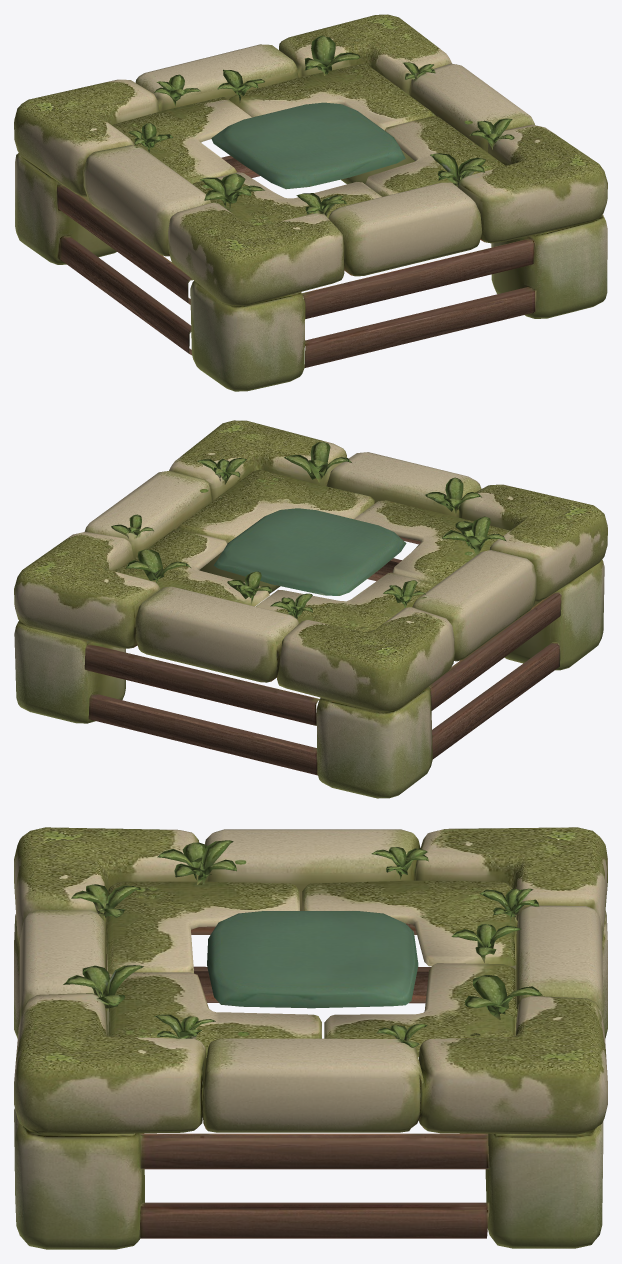
Rendered from tripo_convert_6d7c47db-cf40-49b0-a329-b0d88bf740aa.fbx.
3 views of the same model, one above another, from view 1: azimuth 30°, elevation 25°; view 2: azimuth 150°, elevation 25°; view 3: azimuth 270°, elevation 25° (orthographic). The views are drawn at different scales.
Visible parts, largest first — view 1: tripo_node_6d7c47db; view 2: tripo_node_6d7c47db; view 3: tripo_node_6d7c47db.
Boxes of the visible parts, left/top/right/bottom form: tripo_node_6d7c47db: left=14, top=14, right=607, bottom=391; tripo_node_6d7c47db: left=14, top=420, right=607, bottom=798; tripo_node_6d7c47db: left=14, top=827, right=607, bottom=1249.
Size of the model in its own units: 0.998 by 0.377 by 0.998.
1 material, 1 textured.
